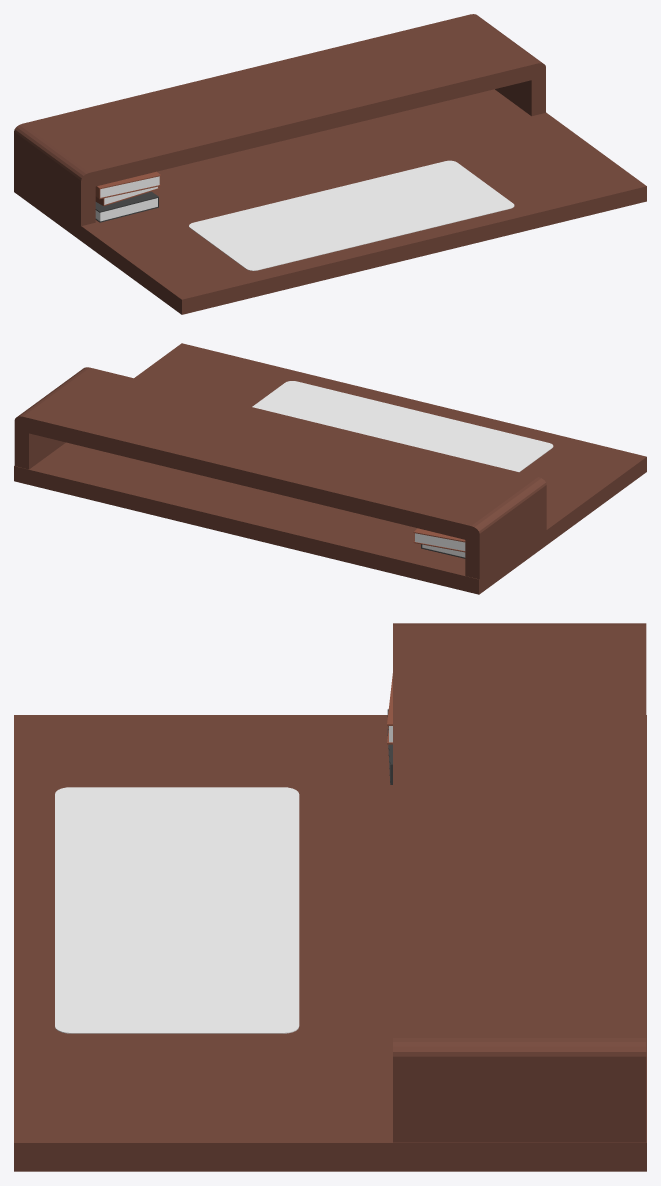
File: desk-set.glb
3 renders of one model, top to bottom at view 1: azimuth 30°, elevation 25°; view 2: azimuth 150°, elevation 25°; view 3: azimuth 270°, elevation 25°, orthographic. The views are drawn at different scales.
Visible parts, largest first — view 1: Cube, Cube.001, pad, cover.002, Cube.002, Cube.006, cover; view 2: Cube.001, Cube, pad, Cube.005; view 3: Cube.001, Cube, pad.
Boxes of the visible parts, x1=… form: Cube: x1=14, y1=89, x2=646, y2=314; Cube.001: x1=14, y1=14, x2=545, y2=226; pad: x1=189, y1=160, x2=514, y2=270; cover.002: x1=95, y1=191, x2=158, y2=222; Cube.002: x1=95, y1=198, x2=157, y2=221; Cube.006: x1=100, y1=176, x2=159, y2=197; cover: x1=95, y1=171, x2=160, y2=199; Cube.001: x1=14, y1=367, x2=546, y2=579; Cube: x1=14, y1=343, x2=646, y2=594; pad: x1=252, y1=381, x2=553, y2=472; Cube.005: x1=415, y1=533, x2=465, y2=550; Cube.001: x1=393, y1=623, x2=646, y2=1142; Cube: x1=14, y1=715, x2=646, y2=1171; pad: x1=55, y1=787, x2=299, y2=1033.
Bounding box in the file's own units: 1.6 × 0.2187 × 1.
